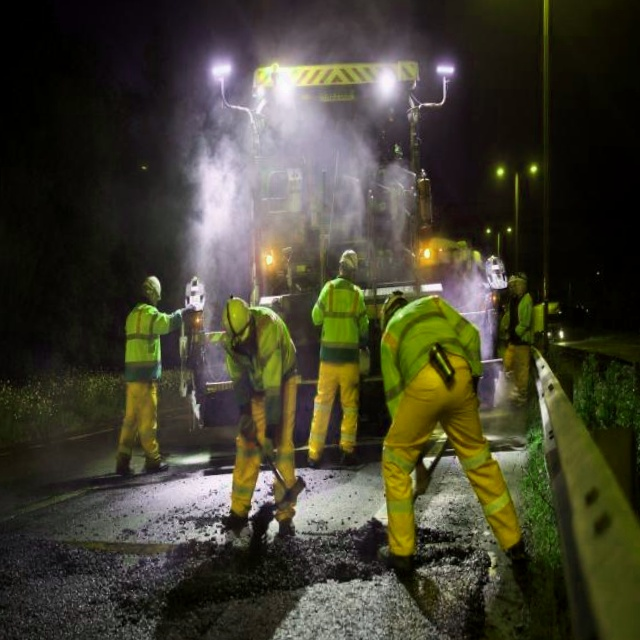Con_Casco: (222, 294, 251, 351), (338, 247, 358, 277)
Con_Chaleco: (321, 278, 362, 359), (124, 304, 165, 384)
